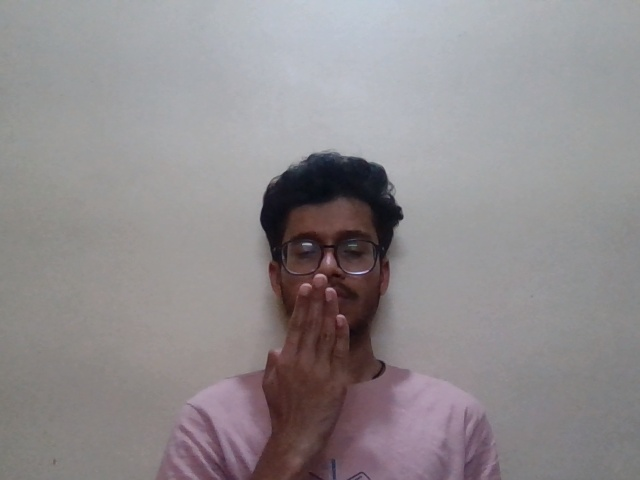good-bye: (262, 276, 369, 449)
